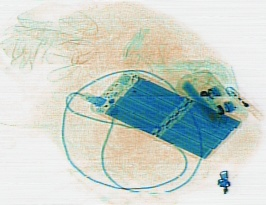lighter: (224, 83, 262, 120)
powerbank: (89, 69, 240, 158)
